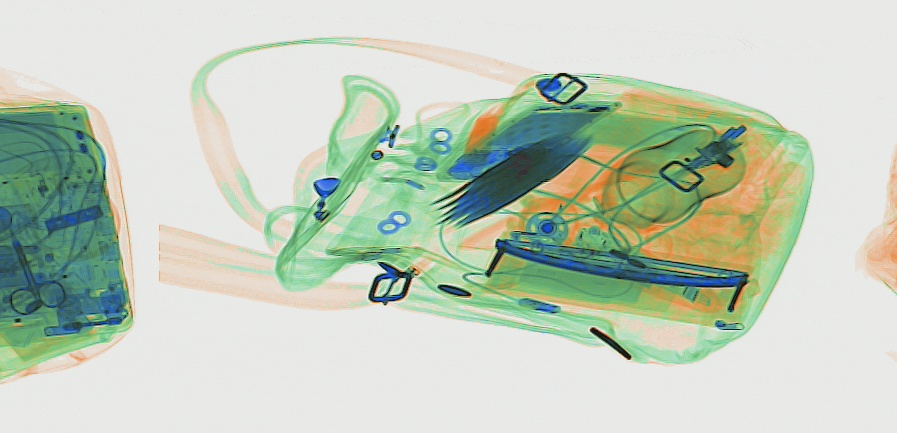scissors: (7, 234, 68, 315)
